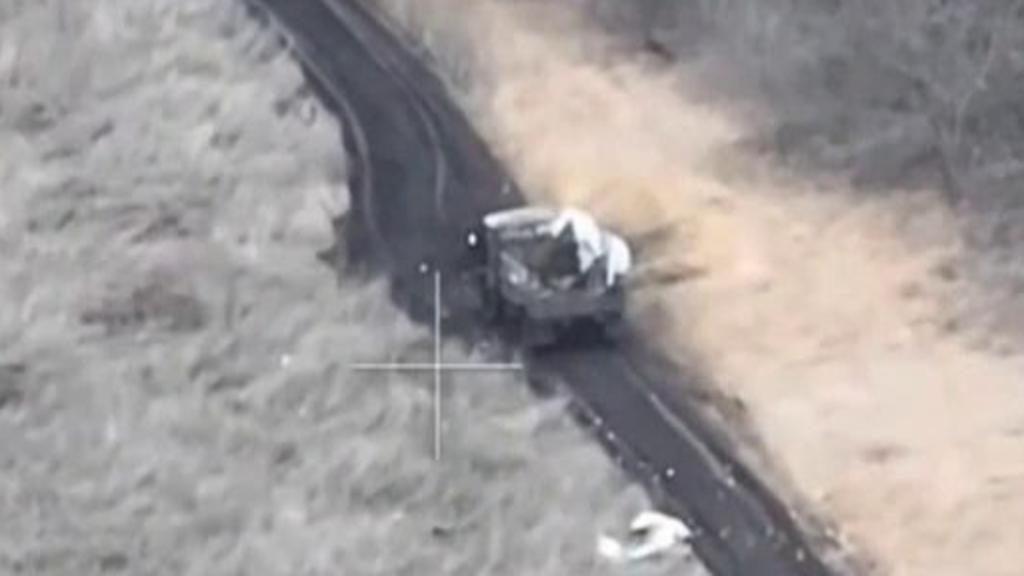TRUCK: (462, 202, 634, 349)
